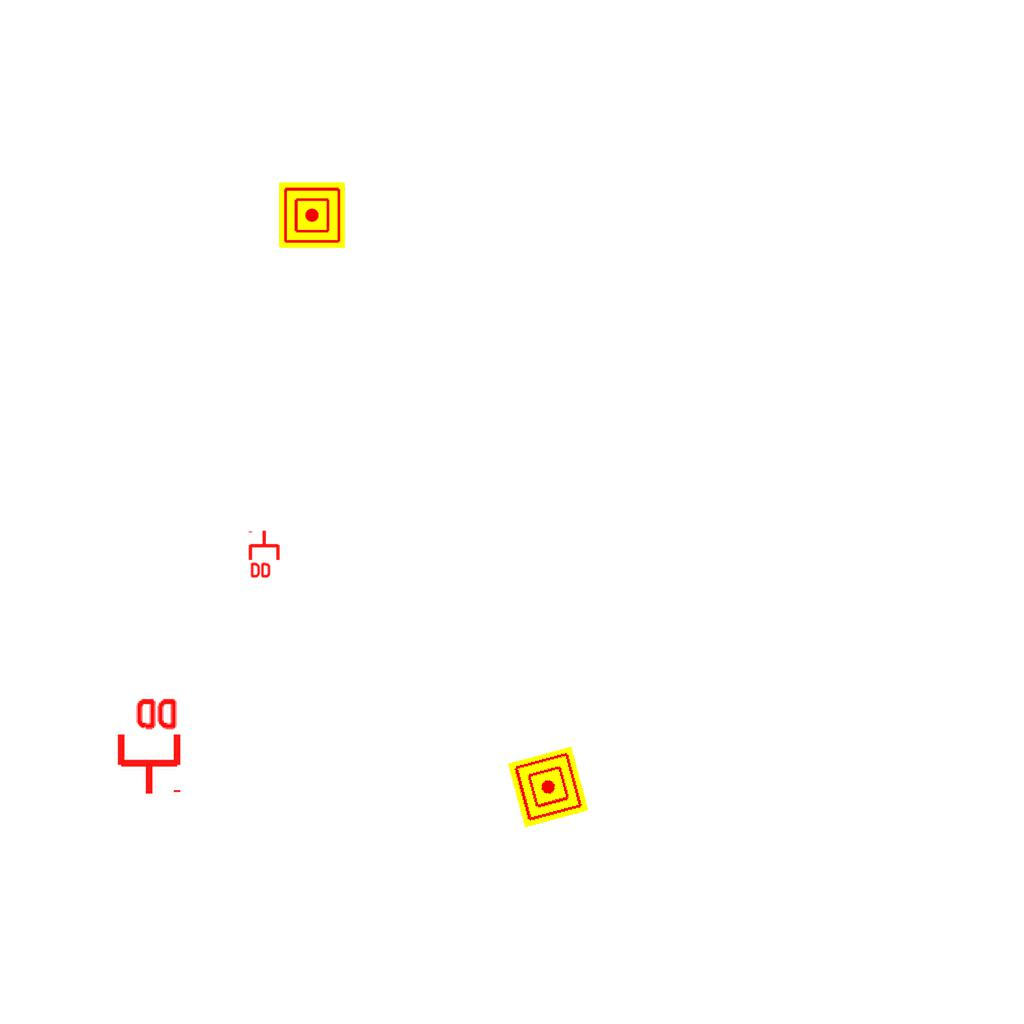Datenanschluss_zweifach: (113, 694, 182, 797), (248, 529, 282, 580)
NAM-Nichtautomatischer_Melder: (507, 746, 589, 828), (279, 182, 345, 248)
